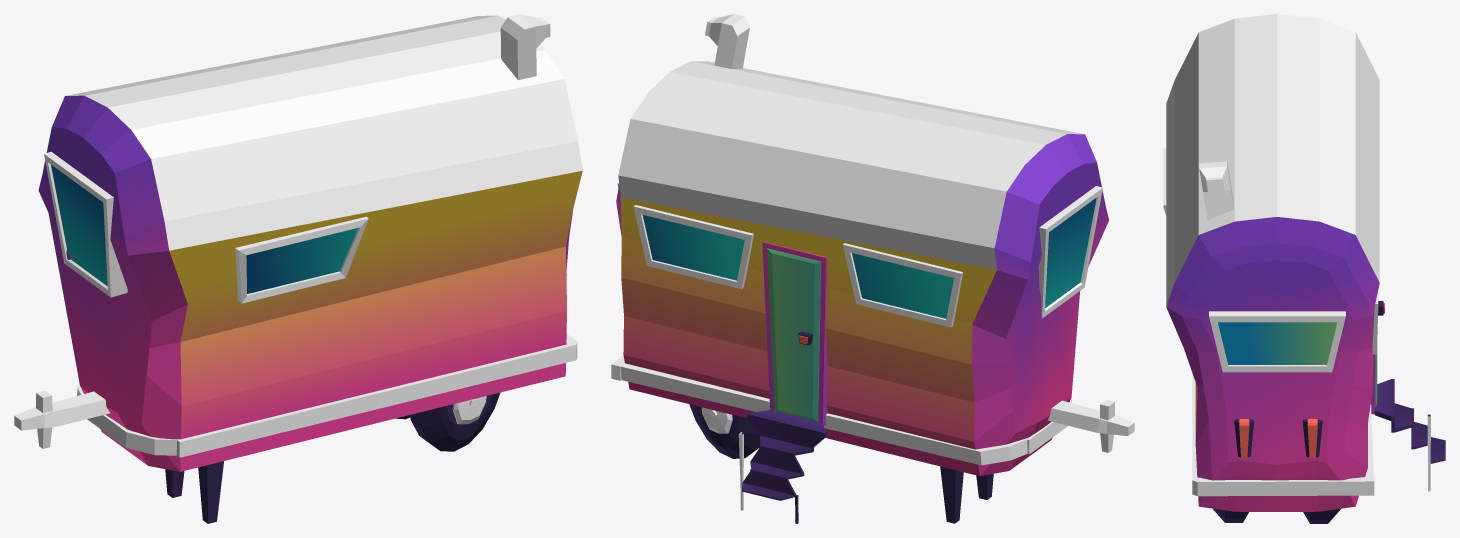
File: DetailedCaravan.fbx
The picture shows the model from 3 angles, left to right: view 1: azimuth 30°, elevation 25°; view 2: azimuth 150°, elevation 25°; view 3: azimuth 270°, elevation 25°; orthographic projection. The views are drawn at different scales.
Parts seen in each view (by area): view 1: CaravanBody, StructureSupport, LWindow, FrontWindow, TowHitch, LTyre, Vent, Cube.002, LWheel; view 2: CaravanBody, Door, StructureSupport, RRWindow, RFWindow, CaravanSteps, FrontWindow, TowHitch, Vent, RTyre, Cube.003; view 3: CaravanBody, RearWindow, StructureSupport, CaravanSteps, Vent, LLight, RLight, RTyre, LTyre.
Boxes of the visible parts, x1,y1,x2,y2 form: CaravanBody: (38,15,582,471); StructureSupport: (77,334,577,457); LWindow: (235,216,368,303); FrontWindow: (44,151,127,297); TowHitch: (14,390,110,448); LTyre: (410,392,500,451); Vent: (500,14,550,80); Cube.002: (198,461,223,523); LWheel: (452,396,486,424); CaravanBody: (616,61,1108,476); Door: (762,241,827,426); StructureSupport: (611,355,1071,465); RRWindow: (633,205,753,289); RFWindow: (843,243,963,327); CaravanSteps: (738,410,826,523); FrontWindow: (1038,186,1102,318); TowHitch: (1047,399,1134,452); Vent: (705,14,749,68); RTyre: (689,404,760,458); Cube.003: (940,466,963,523); CaravanBody: (1166,14,1379,511); RearWindow: (1209,311,1345,372); StructureSupport: (1192,373,1374,496); CaravanSteps: (1375,379,1445,491); Vent: (1199,161,1233,219); LLight: (1234,419,1254,458); RLight: (1302,419,1322,458); RTyre: (1303,508,1340,523); LTyre: (1213,508,1248,522).
Size of the model in its own units: 413 by 808 by 648.
